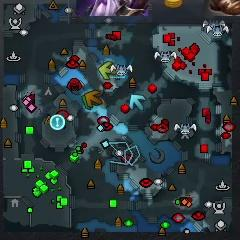x2: (99, 60, 119, 81)
x3: (128, 94, 147, 112)
x4: (81, 94, 101, 110)
x5: (85, 88, 104, 106)
